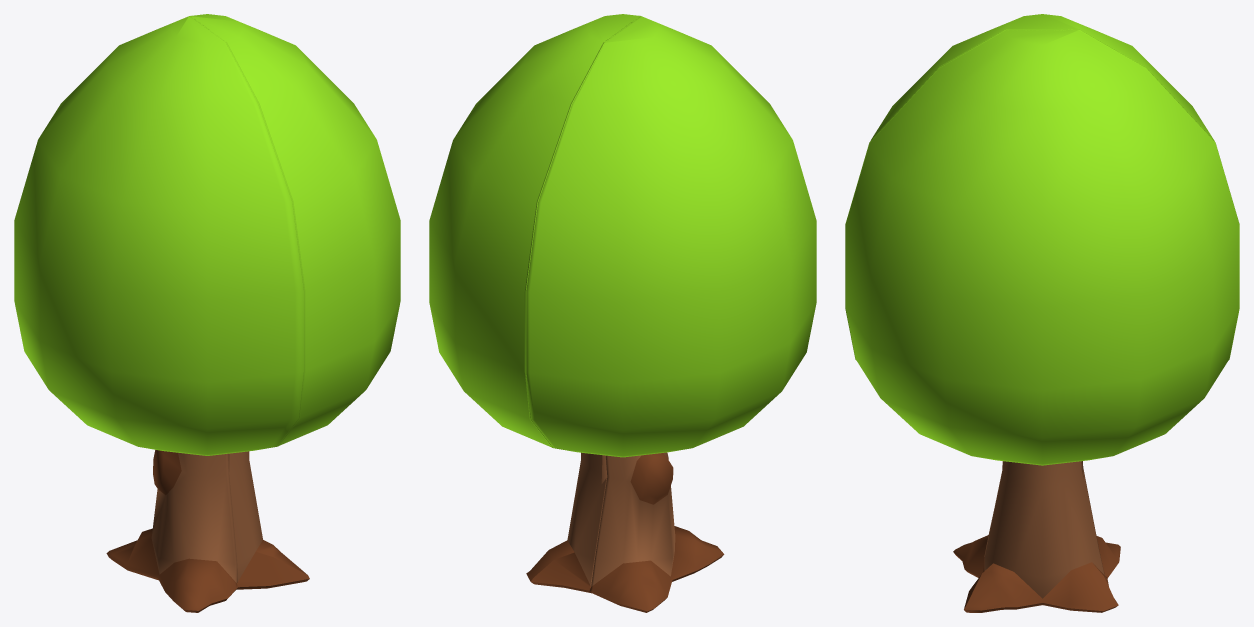
The model's file is SM_Tree_01a.fbx.
The picture shows the model from 3 angles, left to right: view 1: azimuth 30°, elevation 25°; view 2: azimuth 150°, elevation 25°; view 3: azimuth 270°, elevation 25°; orthographic projection. The views are drawn at different scales.
Parts seen in each view (by area): view 1: Tree_01, Tree_02; view 2: Tree_01, Tree_02; view 3: Tree_02, Tree_01.
Boxes of the visible parts, box(x1,y1,x2,y2) form: Tree_01: box(14, 16, 305, 612); Tree_02: box(189, 14, 400, 589); Tree_01: box(524, 16, 816, 612); Tree_02: box(429, 14, 640, 593); Tree_02: box(845, 29, 1239, 612); Tree_01: box(845, 14, 1239, 578).
Size of the model in its own units: 19.09 by 29.49 by 19.09.
